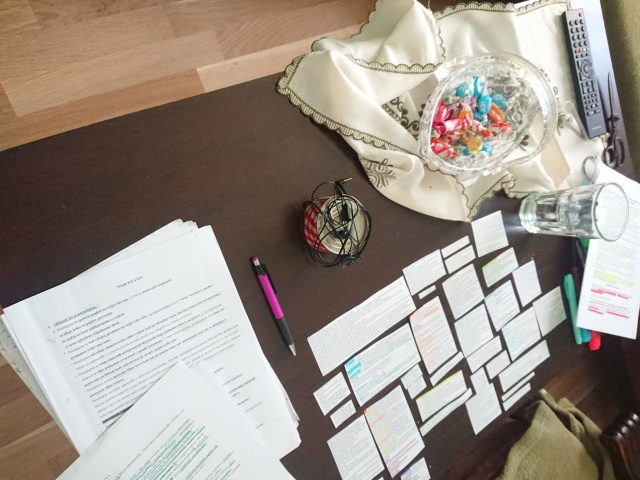Podravka Luncheon Meat 150g: (301, 193, 371, 257)
